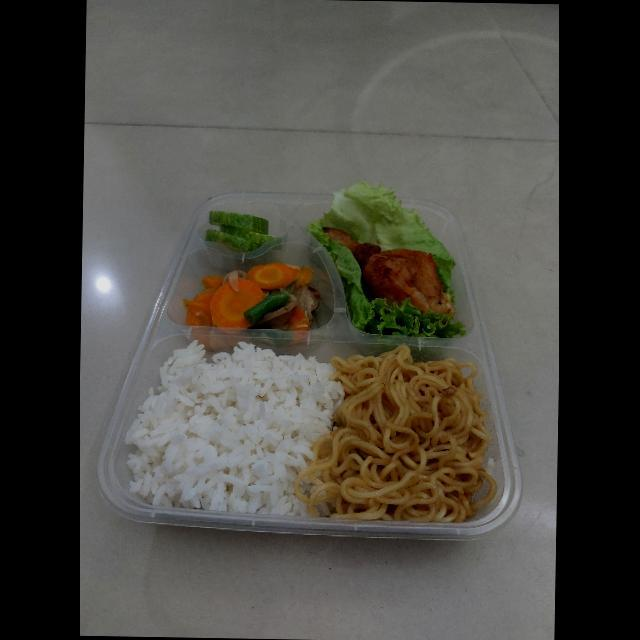bento: (96, 174, 526, 543)
